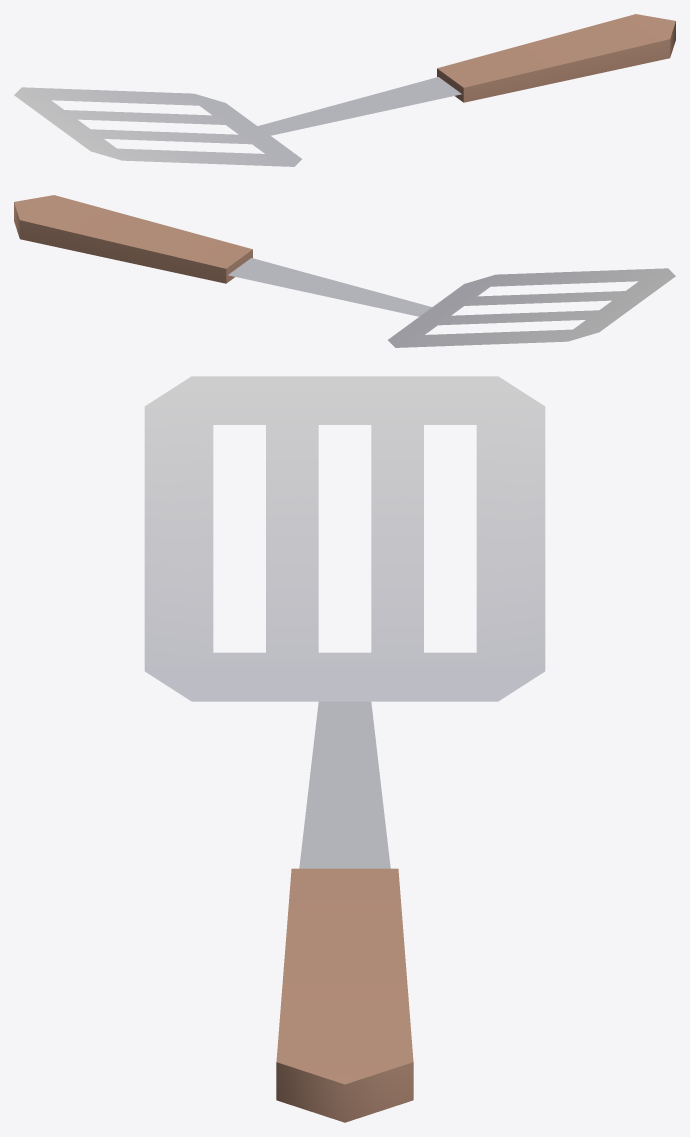
File: cooking-spatula.glb
3 views of the same model, one above another, from view 1: azimuth 30°, elevation 25°; view 2: azimuth 150°, elevation 25°; view 3: azimuth 270°, elevation 25° (orthographic). The views are drawn at different scales.
Parts seen in each view (by area): view 1: cooking-spatula; view 2: cooking-spatula; view 3: cooking-spatula.
Boxes of the visible parts, x1=… form: cooking-spatula: x1=14, y1=14, x2=675, y2=166; cooking-spatula: x1=14, y1=195, x2=675, y2=347; cooking-spatula: x1=144, y1=376, x2=545, y2=1122.
Bounding box in the file's own units: 0.6827 × 0.0721 × 0.19.
